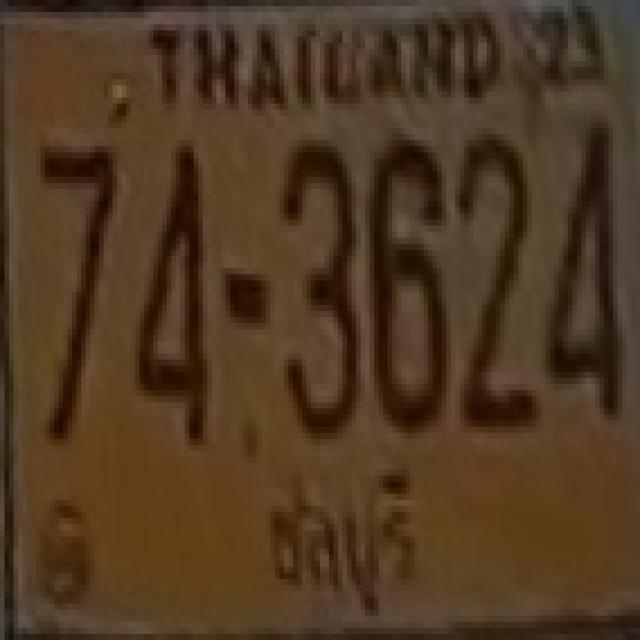2: (456, 131, 528, 399), (456, 131, 528, 375)
3: (279, 137, 356, 436)
4: (541, 116, 617, 414), (131, 140, 203, 439)
6: (365, 134, 442, 427)
7: (36, 140, 113, 427), (36, 140, 113, 372), (36, 140, 113, 329)
CBI: (243, 465, 428, 619)
